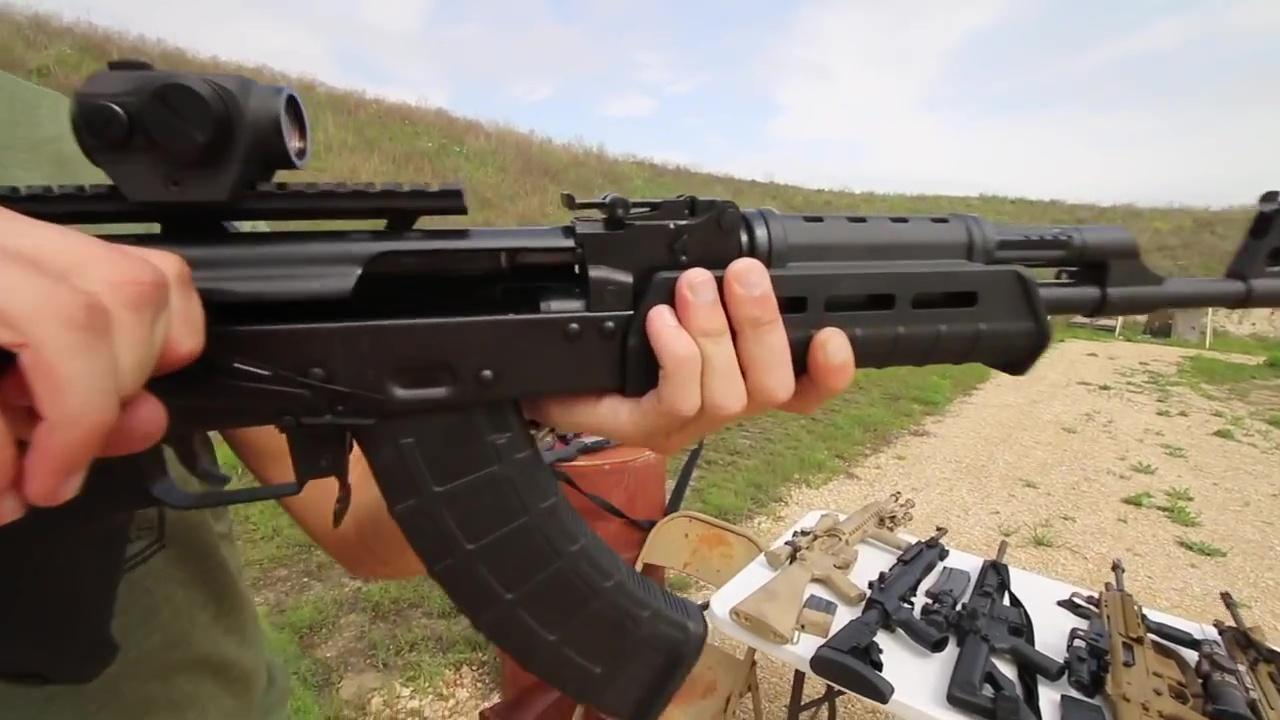Gun: (1, 52, 1278, 720), (724, 487, 922, 657), (808, 516, 955, 714), (940, 530, 1073, 720), (1076, 548, 1211, 720), (1208, 581, 1276, 720)
